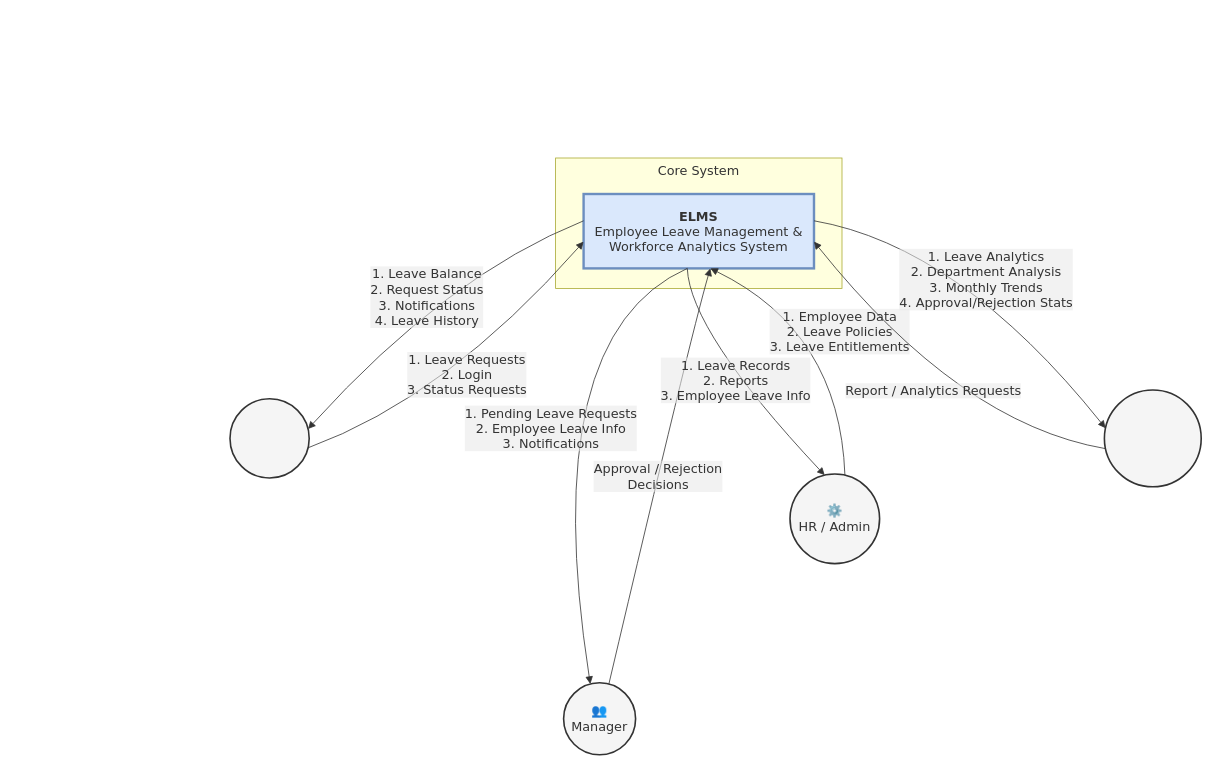
This 1215x769 diagram has some shape labels left out. The box of each missing label's shape, as (x1, y1, x2, y2) in pixels:
👤 Employee: (229, 398, 310, 478)
📊 Management: (1103, 389, 1202, 487)
